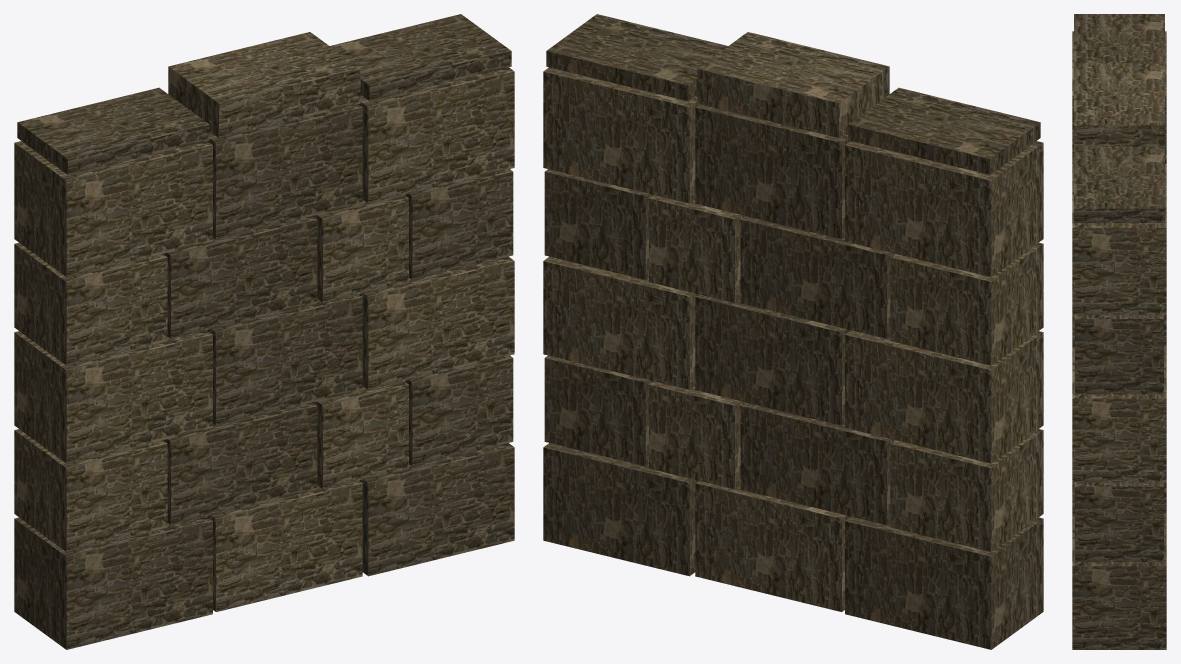
The model's file is wall_piece_01.glb.
The picture shows the model from 3 angles, left to right: view 1: azimuth 30°, elevation 25°; view 2: azimuth 150°, elevation 25°; view 3: azimuth 270°, elevation 25°; orthographic projection. The views are drawn at different scales.
Visible parts, largest first — view 1: wall_piece_01; view 2: wall_piece_01; view 3: wall_piece_01.
Part boxes in pixels (<box>): wall_piece_01: <box>14,14,514,649</box>; wall_piece_01: <box>543,14,1043,649</box>; wall_piece_01: <box>1072,14,1166,649</box>.
Bounding box in the file's own units: 2.97 × 3.22 × 0.5998.
Materials: 2 (2 with a texture image).
